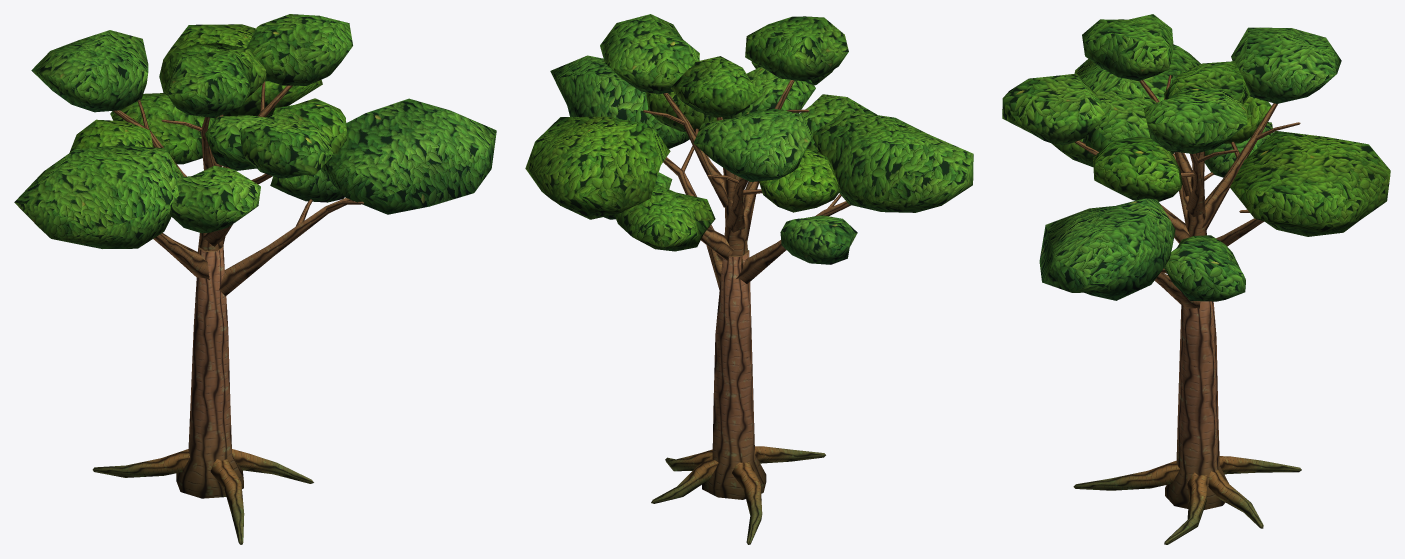
The model's file is tree_lod.glb.
3 renders of one model, left to right at view 1: azimuth 30°, elevation 25°; view 2: azimuth 150°, elevation 25°; view 3: azimuth 270°, elevation 25°, orthographic. The views are drawn at different scales.
Visible parts, largest first — view 1: Leaves, Trunk, Branches, Roots; view 2: Leaves, Trunk, Branches, Roots; view 3: Leaves, Trunk, Branches, Roots.
Boxes of the visible parts, x1,y1,x2,y2 form: Leaves: (14, 14, 496, 248); Trunk: (176, 247, 243, 498); Branches: (113, 81, 363, 296); Roots: (92, 449, 313, 544); Leaves: (525, 14, 973, 264); Trunk: (702, 250, 766, 499); Branches: (643, 80, 850, 289); Roots: (651, 446, 825, 544); Leaves: (1002, 14, 1390, 301); Trunk: (1165, 301, 1228, 509); Branches: (1074, 75, 1300, 308); Roots: (1073, 456, 1301, 544).
Size of the model in its own units: 6.35 by 6.21 by 4.7.
2 materials, 2 textured.
